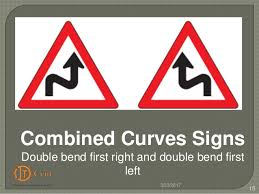Double_bend_left: (133, 17, 241, 109)
